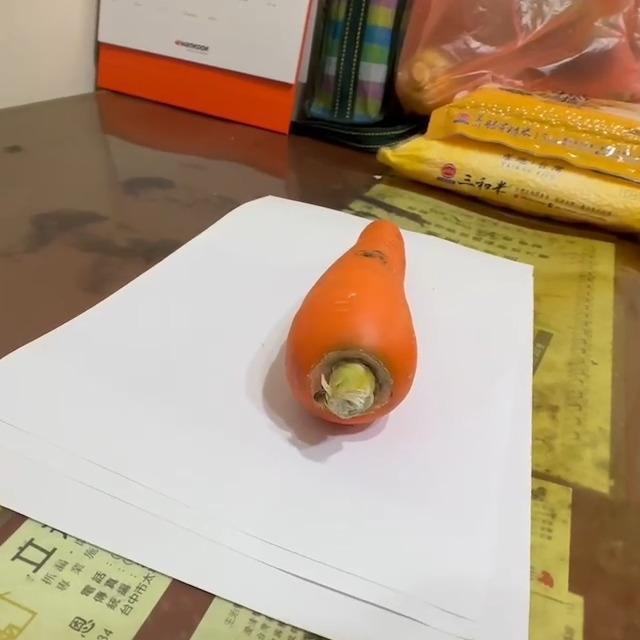carrot: (282, 219, 419, 430)
